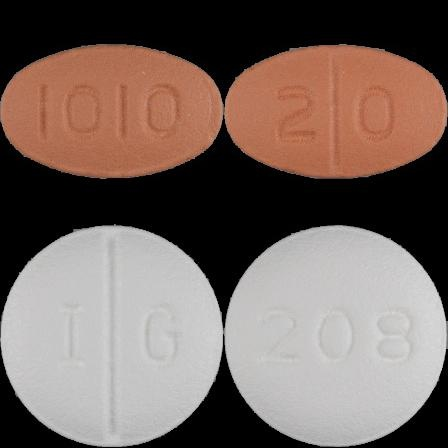50090-0892: (0, 0, 224, 224)
